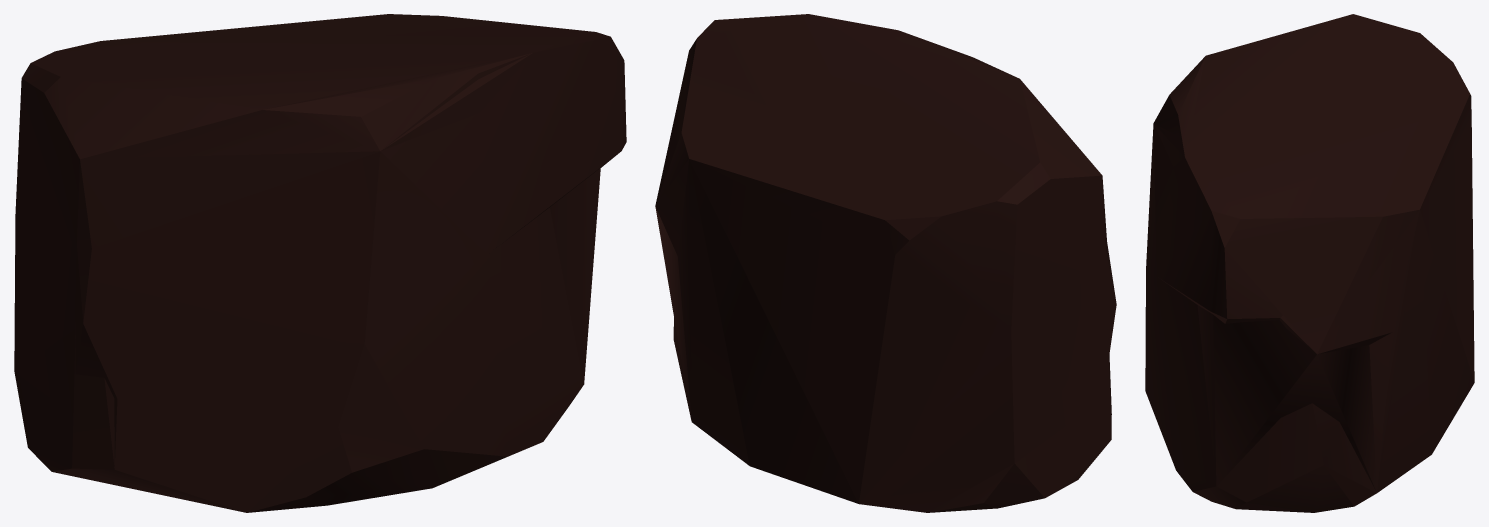
The model's file is SM_Venus_Rock_03.fbx.
The picture shows the model from 3 angles, left to right: view 1: azimuth 30°, elevation 25°; view 2: azimuth 150°, elevation 25°; view 3: azimuth 270°, elevation 25°; orthographic projection. The views are drawn at different scales.
Parts seen in each view (by area): view 1: SM_Venus_Rock_03, SM_Venus_Rock_03_col; view 2: SM_Venus_Rock_03, SM_Venus_Rock_03_col; view 3: SM_Venus_Rock_03, SM_Venus_Rock_03_col.
Part boxes in pixels (box(x1,y1,x2,y2)): SM_Venus_Rock_03: box(14, 14, 626, 512); SM_Venus_Rock_03_col: box(14, 53, 600, 512); SM_Venus_Rock_03: box(655, 14, 1116, 512); SM_Venus_Rock_03_col: box(655, 52, 1111, 462); SM_Venus_Rock_03: box(1145, 14, 1474, 512); SM_Venus_Rock_03_col: box(1154, 124, 1382, 492).
Bounding box in the file's own units: 110 × 81.31 × 71.81.
